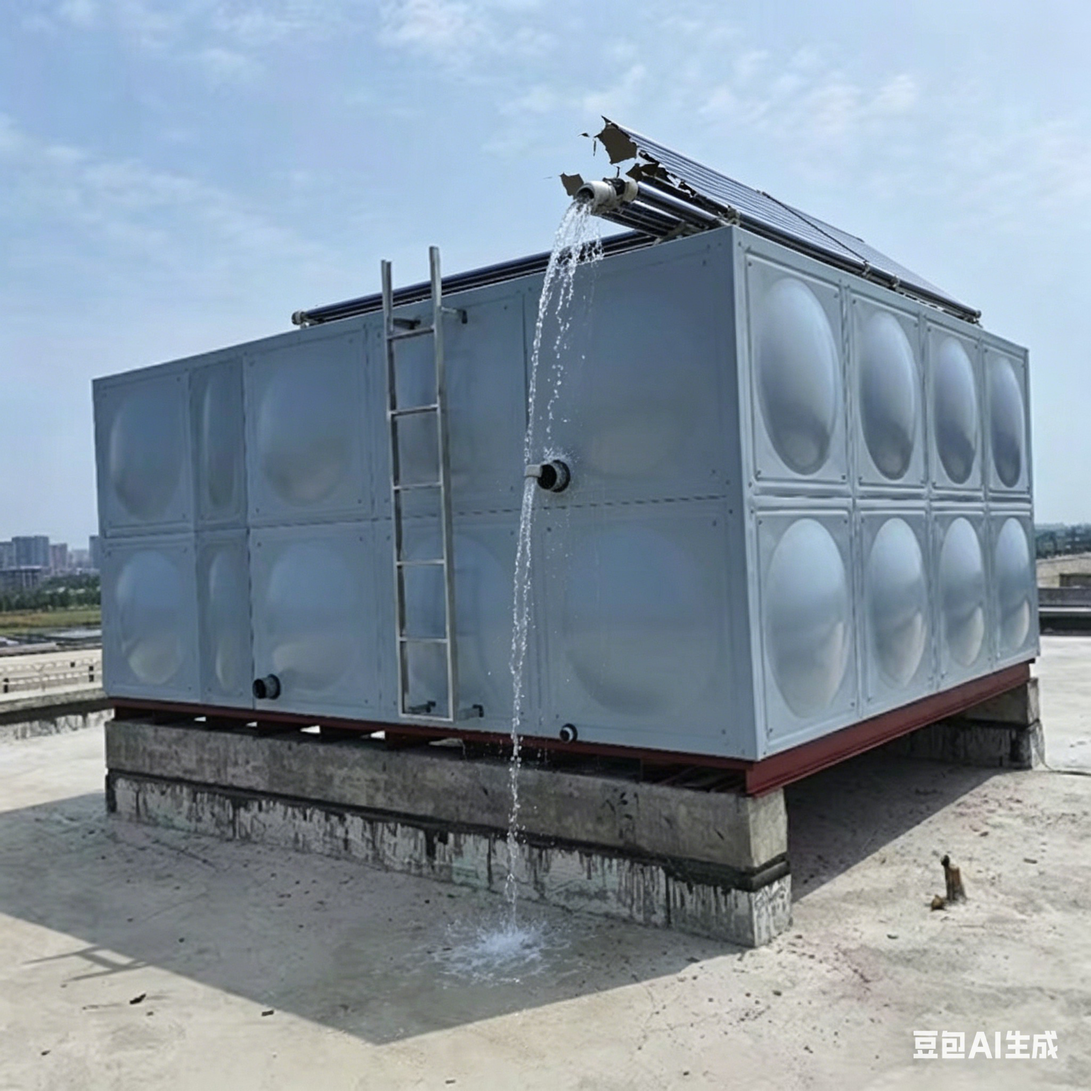Leakage: (473, 187, 598, 989)
